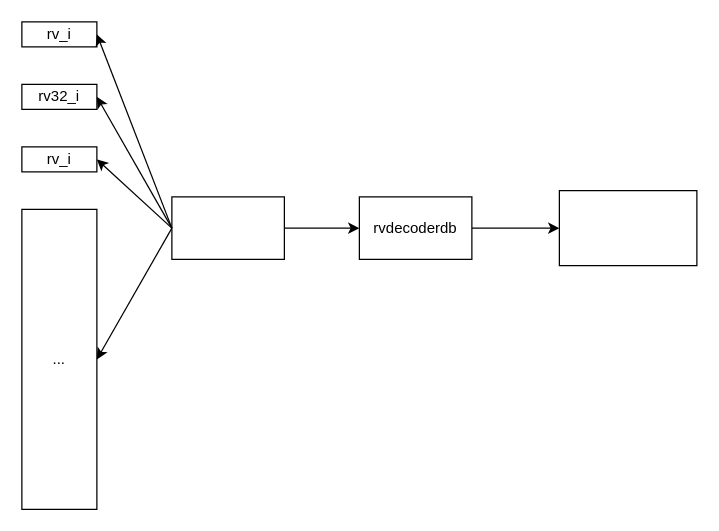
The diagram is 719 pixels wide and 531 high, and some of its shapes have lost their labels. The shapes that lost their labels are listed below. From the top down, each one's centre as x and y in pixels, then its label:
At pixel 227 227: "riscv-opcodes".
At pixel 627 227: "Iterable[Instruction]".
